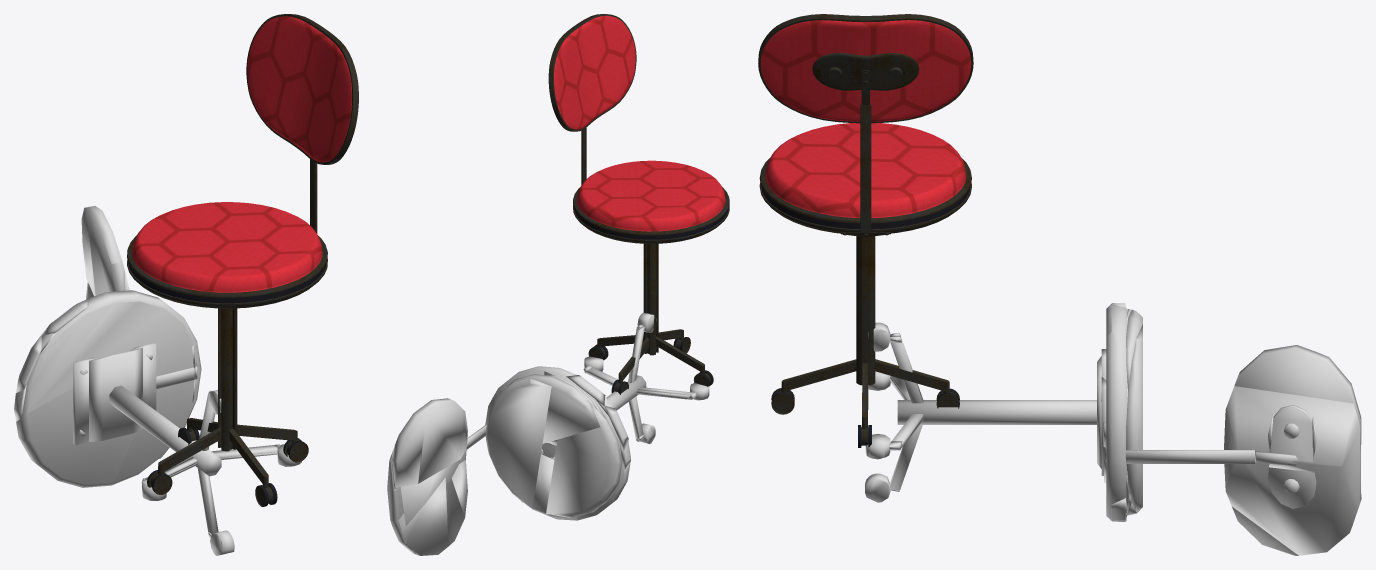
File: SM_Chair_Desk.fbx
The picture shows the model from 3 angles, left to right: view 1: azimuth 30°, elevation 25°; view 2: azimuth 150°, elevation 25°; view 3: azimuth 270°, elevation 25°; orthographic projection. The views are drawn at different scales.
Parts seen in each view (by area): view 1: SM_Chair_Desk, SM_Chair_Desk_ConvexHulls; view 2: SM_Chair_Desk_ConvexHulls, SM_Chair_Desk; view 3: SM_Chair_Desk, SM_Chair_Desk_ConvexHulls.
Boxes of the visible parts, left/top/right/bottom form: SM_Chair_Desk: left=127, top=14, right=358, bottom=506; SM_Chair_Desk_ConvexHulls: left=14, top=206, right=301, bottom=555; SM_Chair_Desk_ConvexHulls: left=387, top=312, right=709, bottom=555; SM_Chair_Desk: left=548, top=14, right=729, bottom=394; SM_Chair_Desk: left=758, top=14, right=973, bottom=447; SM_Chair_Desk_ConvexHulls: left=865, top=303, right=1361, bottom=555.
Size of the model in its own units: 0.5115 by 1.3 by 1.29.
